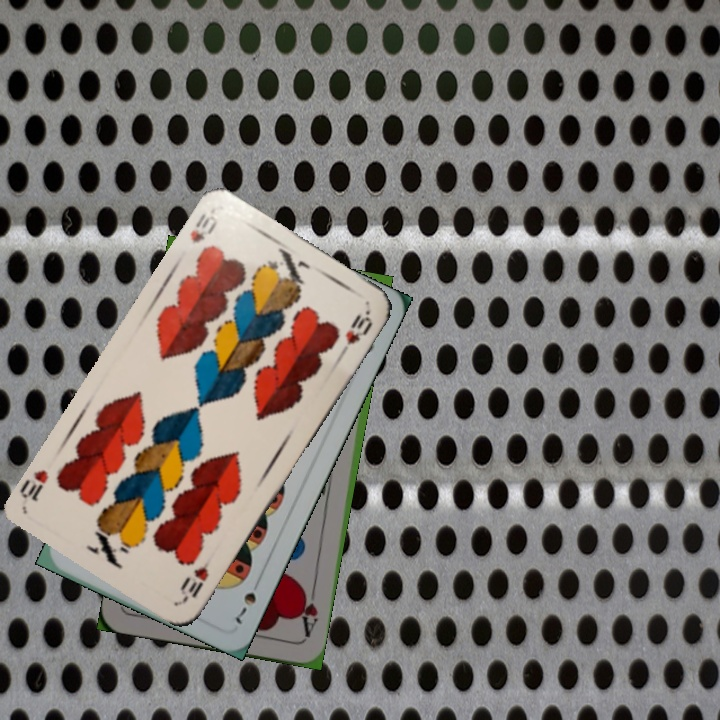H10: (176, 552, 216, 604), (186, 209, 221, 247)
HA: (295, 582, 321, 640)
S7: (230, 573, 264, 627)
